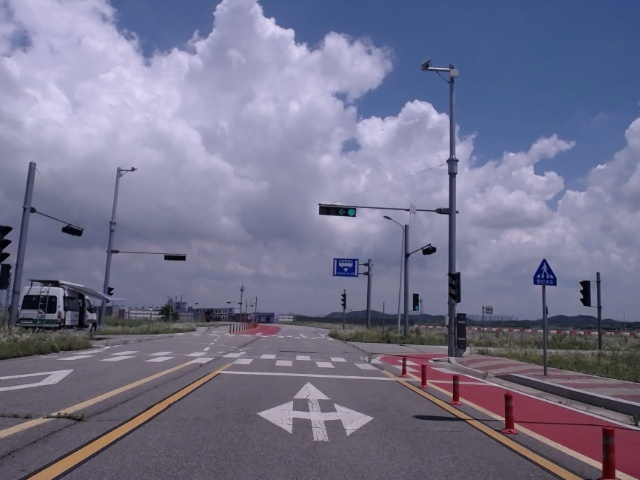all_green_4: (322, 206, 356, 218)
